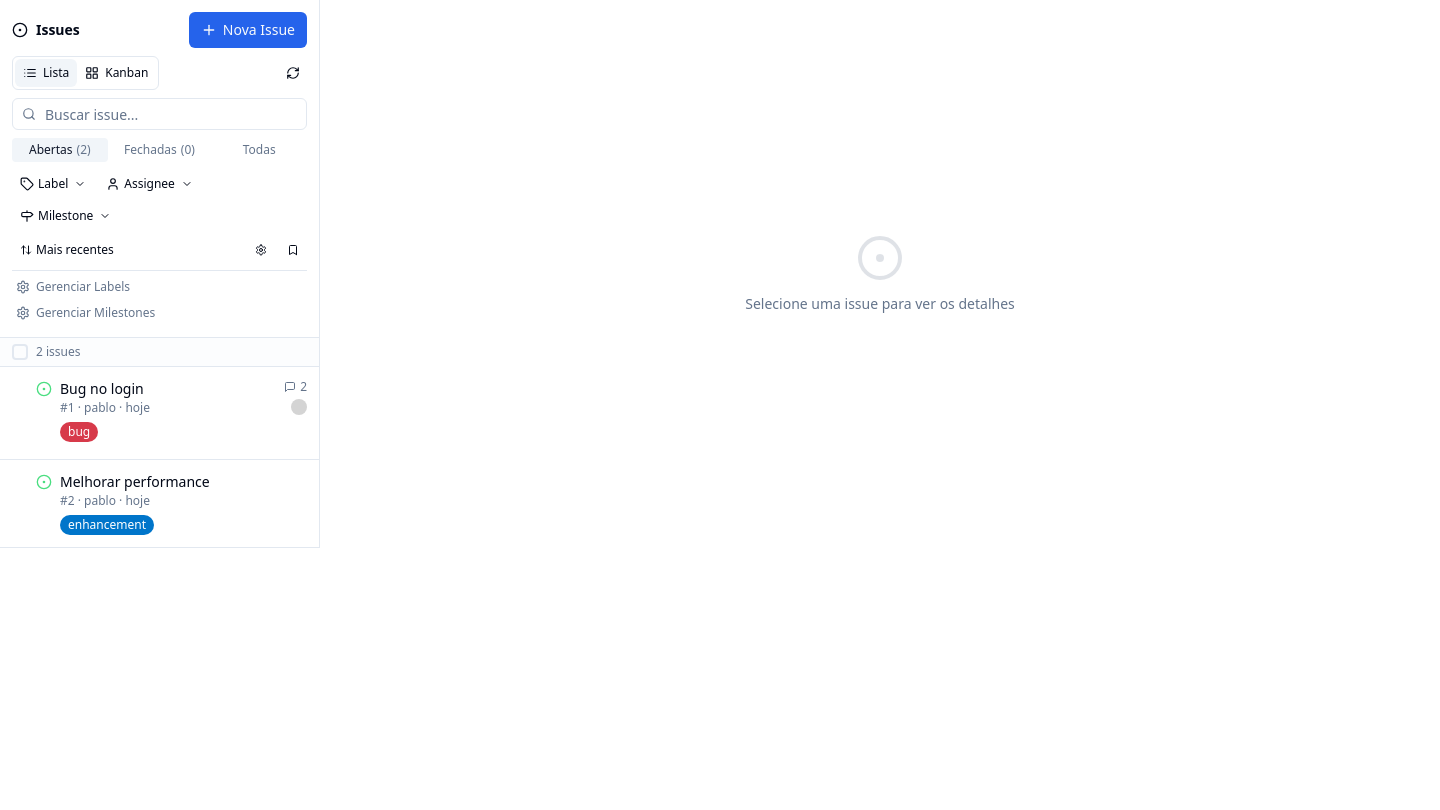
it: IssuesManager › edição do corpo › clicar em "Editar" abre textarea com conteúdo atual
The image size is (1440, 810).
Click the text "Bug no login" at (102, 389), box [60,379,144,398]
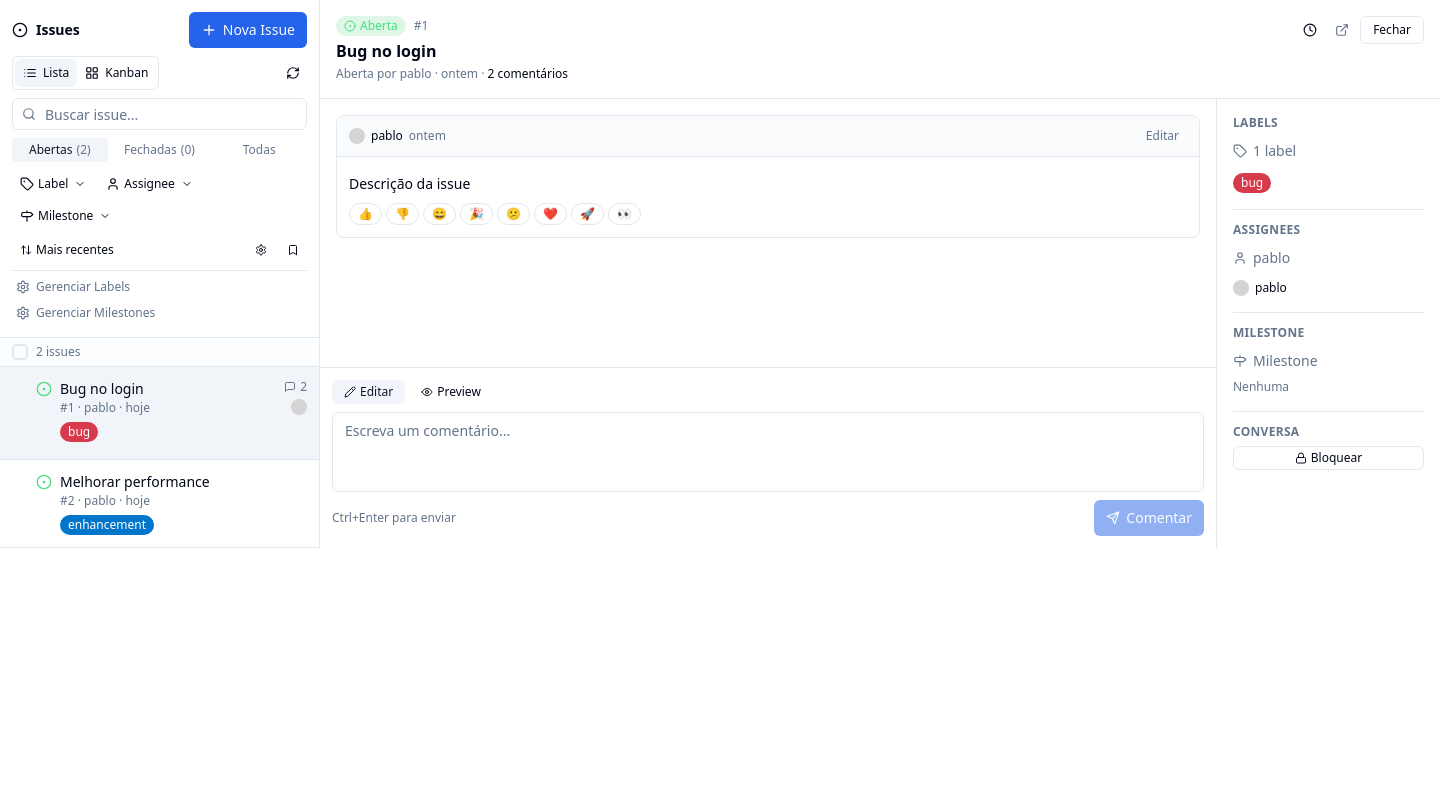
Click the 1st button "Editar" at (1162, 136), box [1138,124,1187,148]
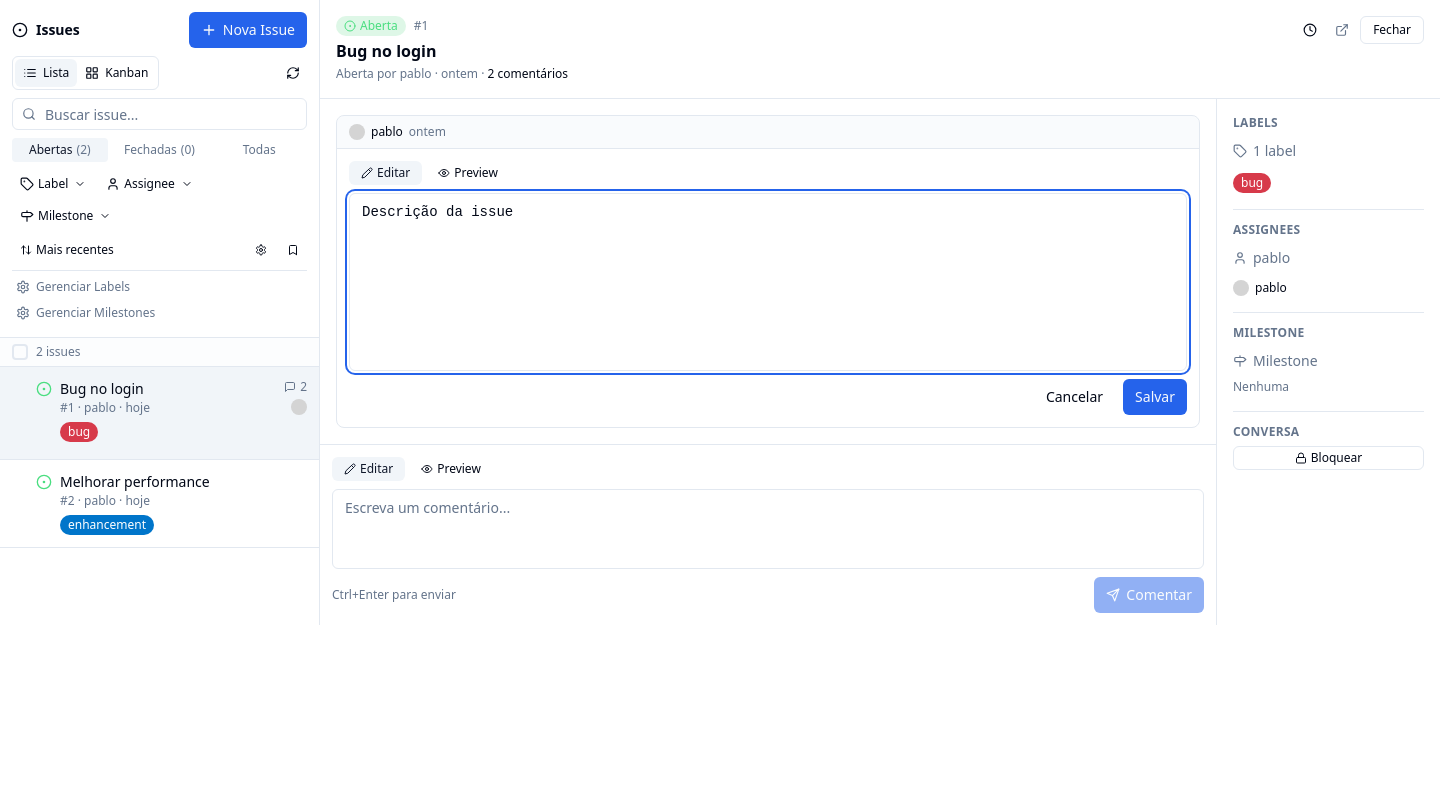
Expected: the text box showing "Descrição da issue" is shown, [349,193,1187,371]
